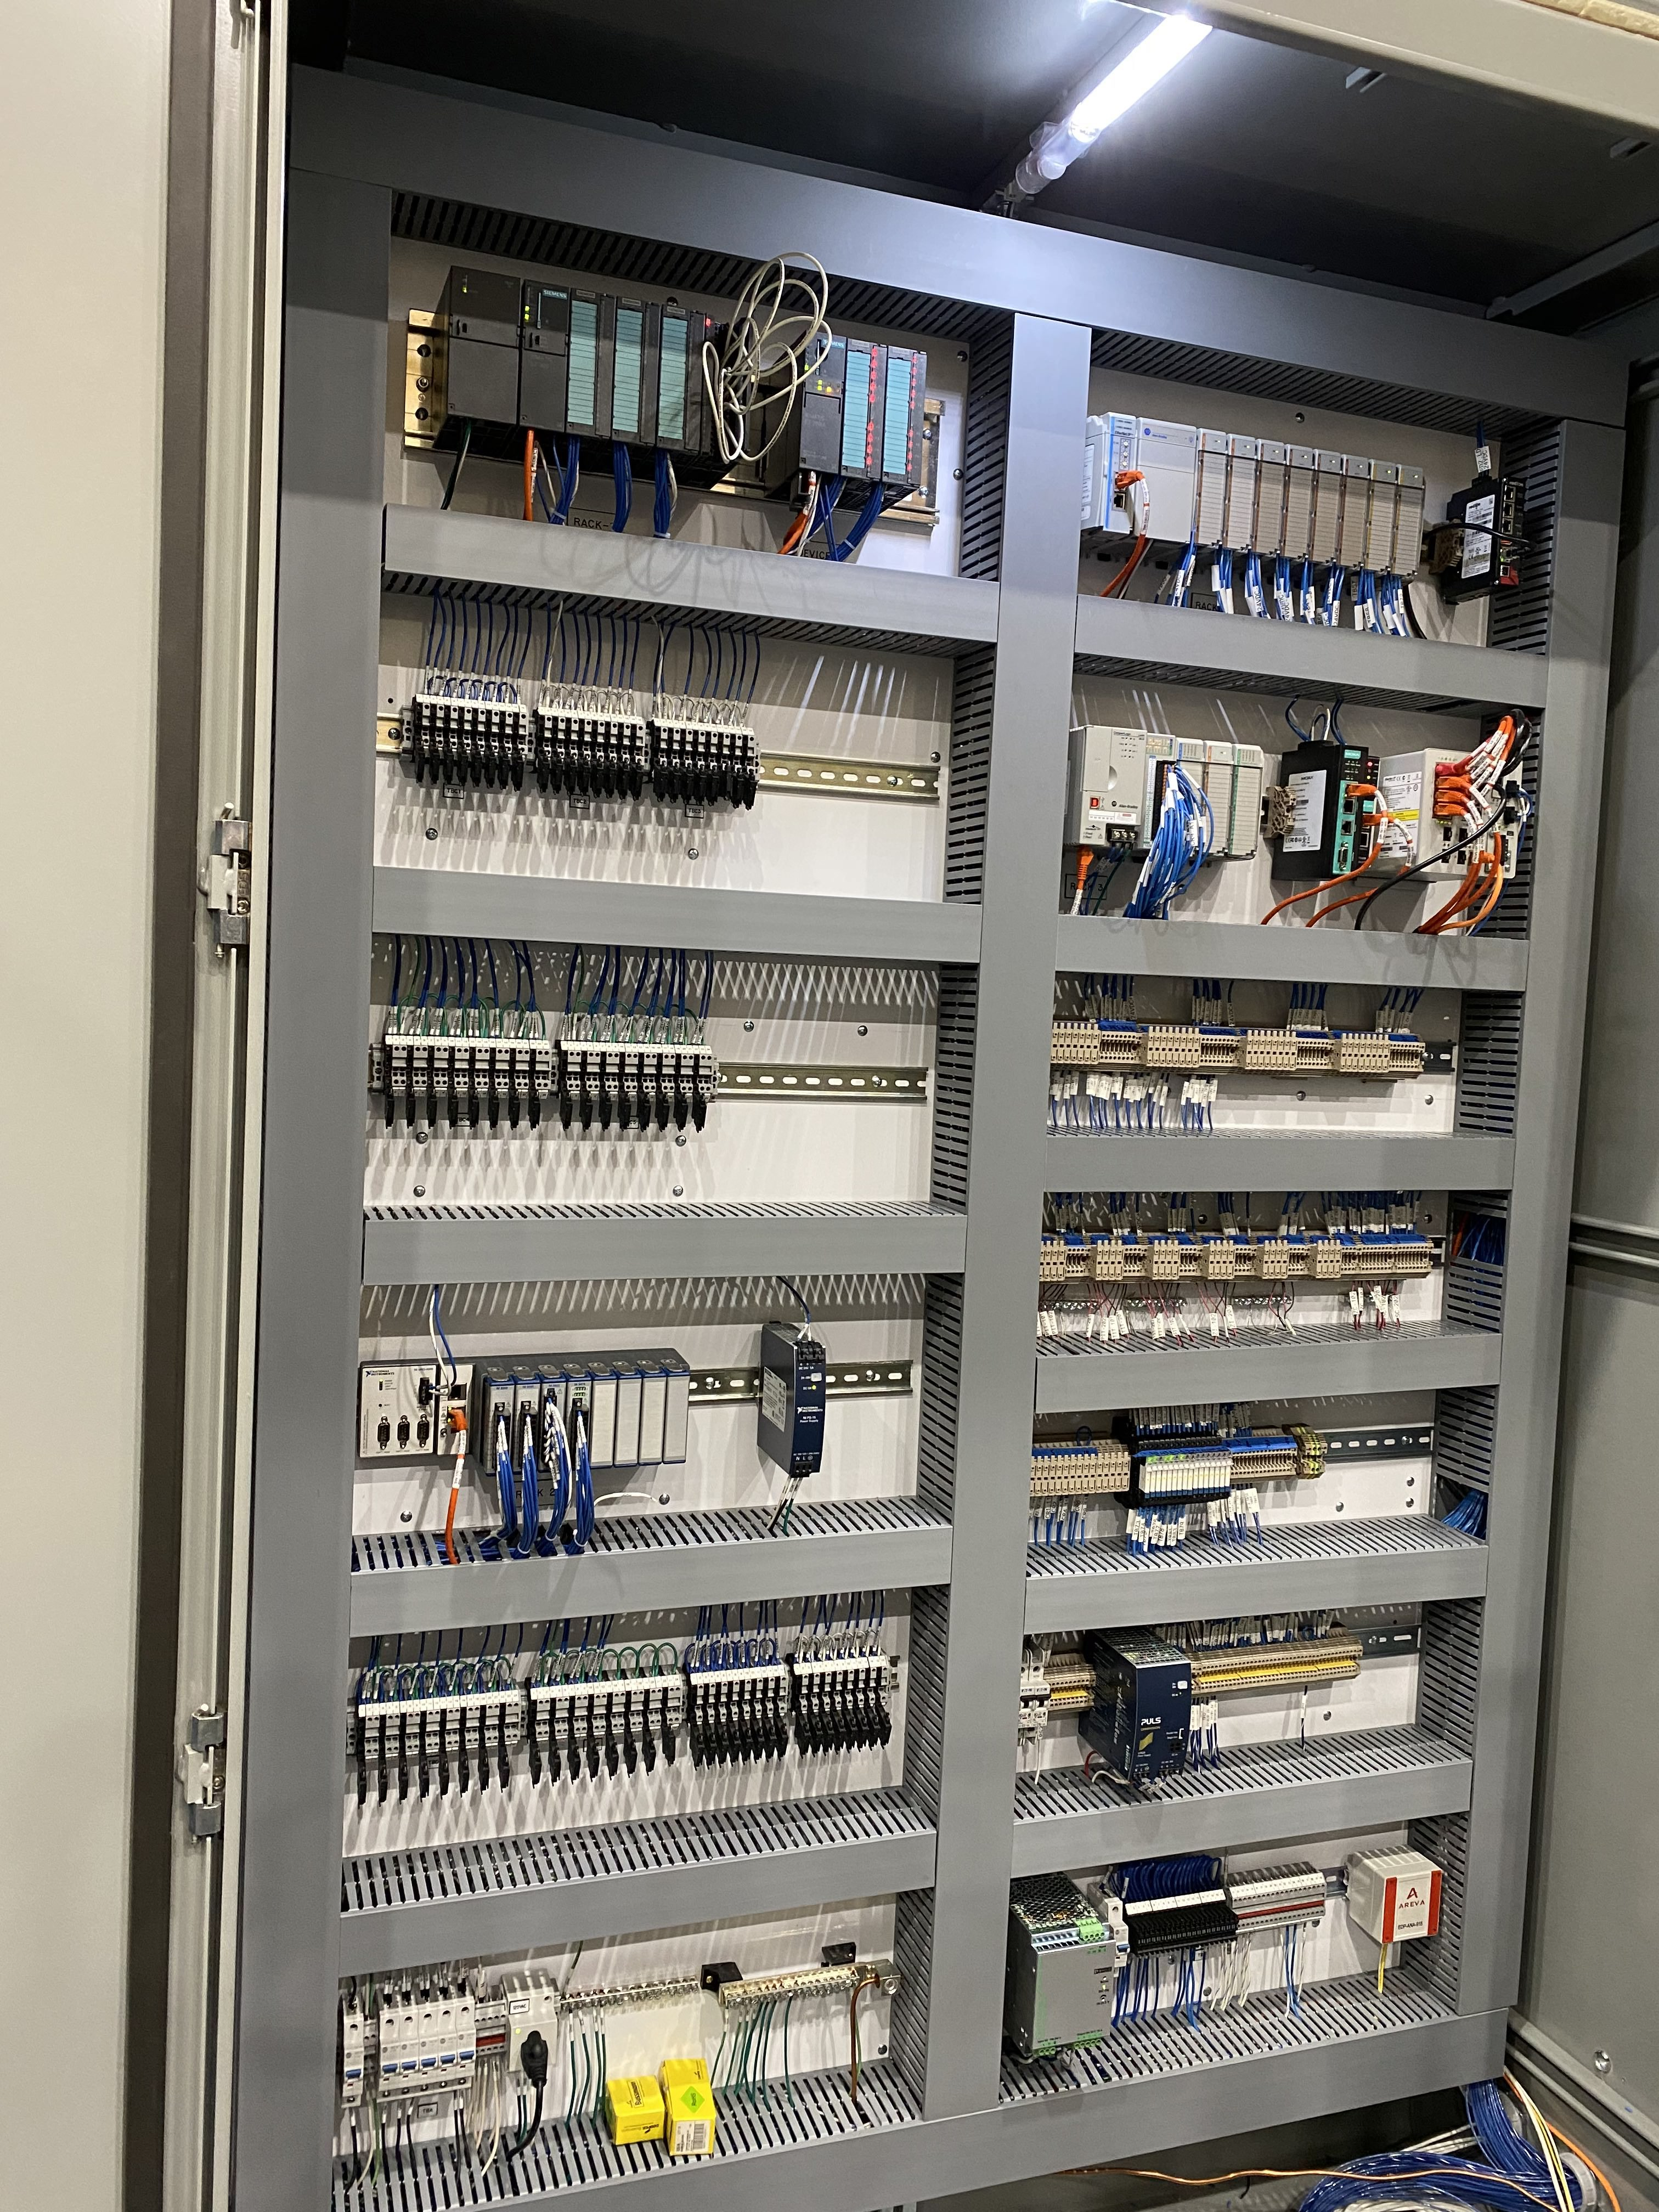AllenBradley: (1077, 721, 1148, 855)
Siemens: (518, 275, 573, 439)
